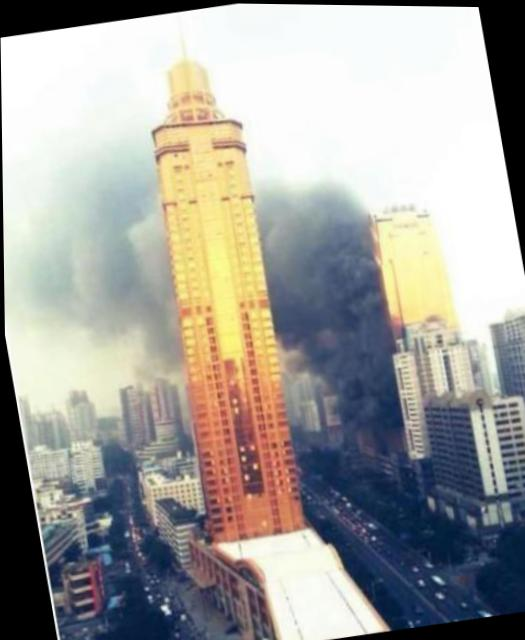smoke: (257, 155, 398, 418), (19, 156, 175, 359)
